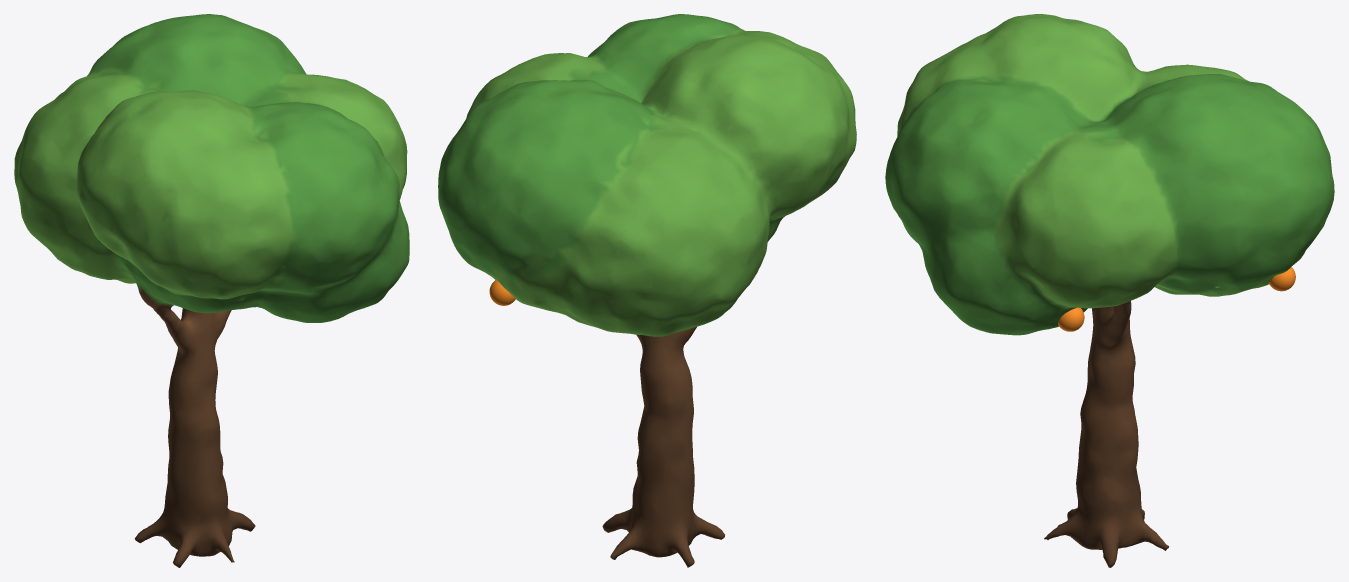
The model's file is tree_fruit.glb.
3 views of the same model, side by side, from view 1: azimuth 30°, elevation 25°; view 2: azimuth 150°, elevation 25°; view 3: azimuth 270°, elevation 25° (orthographic). The views are drawn at different scales.
Parts seen in each view (by area): view 1: tree_fruit; view 2: tree_fruit; view 3: tree_fruit.
Part boxes in pixels (<box>): tree_fruit: <box>14,14,409,567</box>; tree_fruit: <box>438,14,856,567</box>; tree_fruit: <box>885,14,1334,567</box>.
Size of the model in its own units: 3.82 by 5.3 by 4.39.
